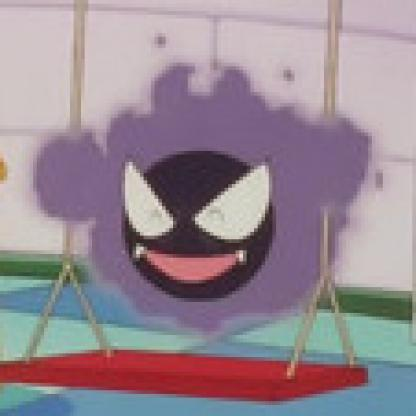Gastly: (32, 60, 376, 335)
